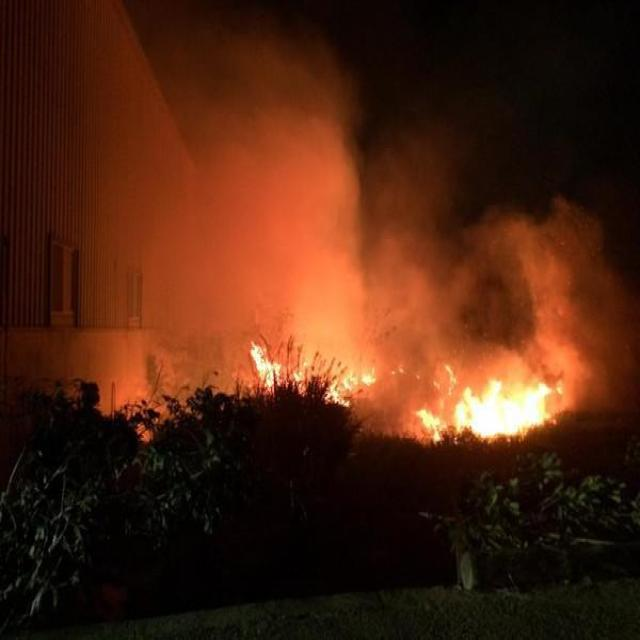fire: (230, 319, 563, 450)
